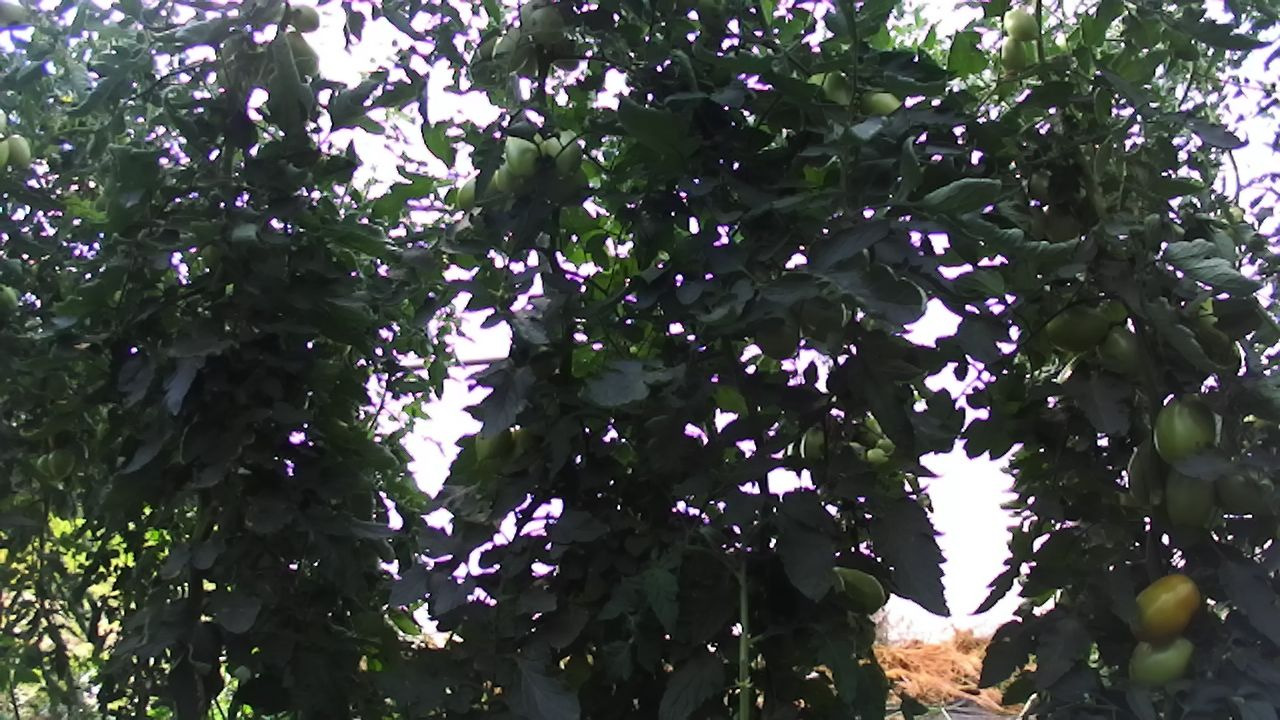tomato: (1124, 566, 1203, 649), (1146, 386, 1224, 468), (1122, 620, 1202, 693), (1040, 297, 1117, 353), (820, 559, 891, 617), (1162, 464, 1214, 539), (539, 124, 585, 181), (999, 3, 1043, 47), (5, 132, 32, 171)
